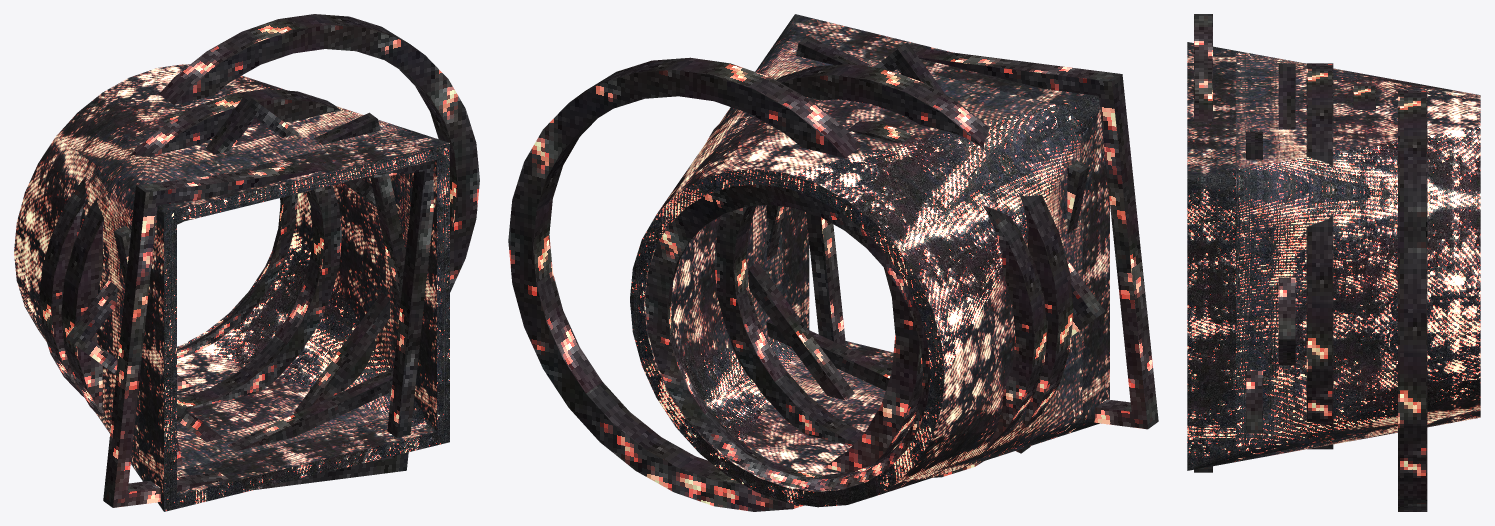
Rendered from drain_adapter.glb.
3 renders of one model, left to right at view 1: azimuth 30°, elevation 25°; view 2: azimuth 150°, elevation 25°; view 3: azimuth 270°, elevation 25°, orthographic. The views are drawn at different scales.
Parts seen in each view (by area): view 1: Cylinder, Cylinder.002, Cylinder.003; view 2: Cylinder, Cylinder.002, Cylinder.003; view 3: Cylinder, Cylinder.002, Cylinder.003.
Boxes of the visible parts, <box> form: Cylinder: <box>14,64,449,511</box>; Cylinder.002: <box>39,14,479,416</box>; Cylinder.003: <box>66,94,433,507</box>; Cylinder: <box>630,14,1109,507</box>; Cylinder.002: <box>508,57,1073,511</box>; Cylinder.003: <box>748,36,1158,453</box>; Cylinder: <box>1187,42,1480,470</box>; Cylinder.002: <box>1306,63,1427,511</box>; Cylinder.003: <box>1194,14,1295,472</box>.
Size of the model in its own units: 5.44 by 4.31 by 3.
Materials: 1 (1 with a texture image).
